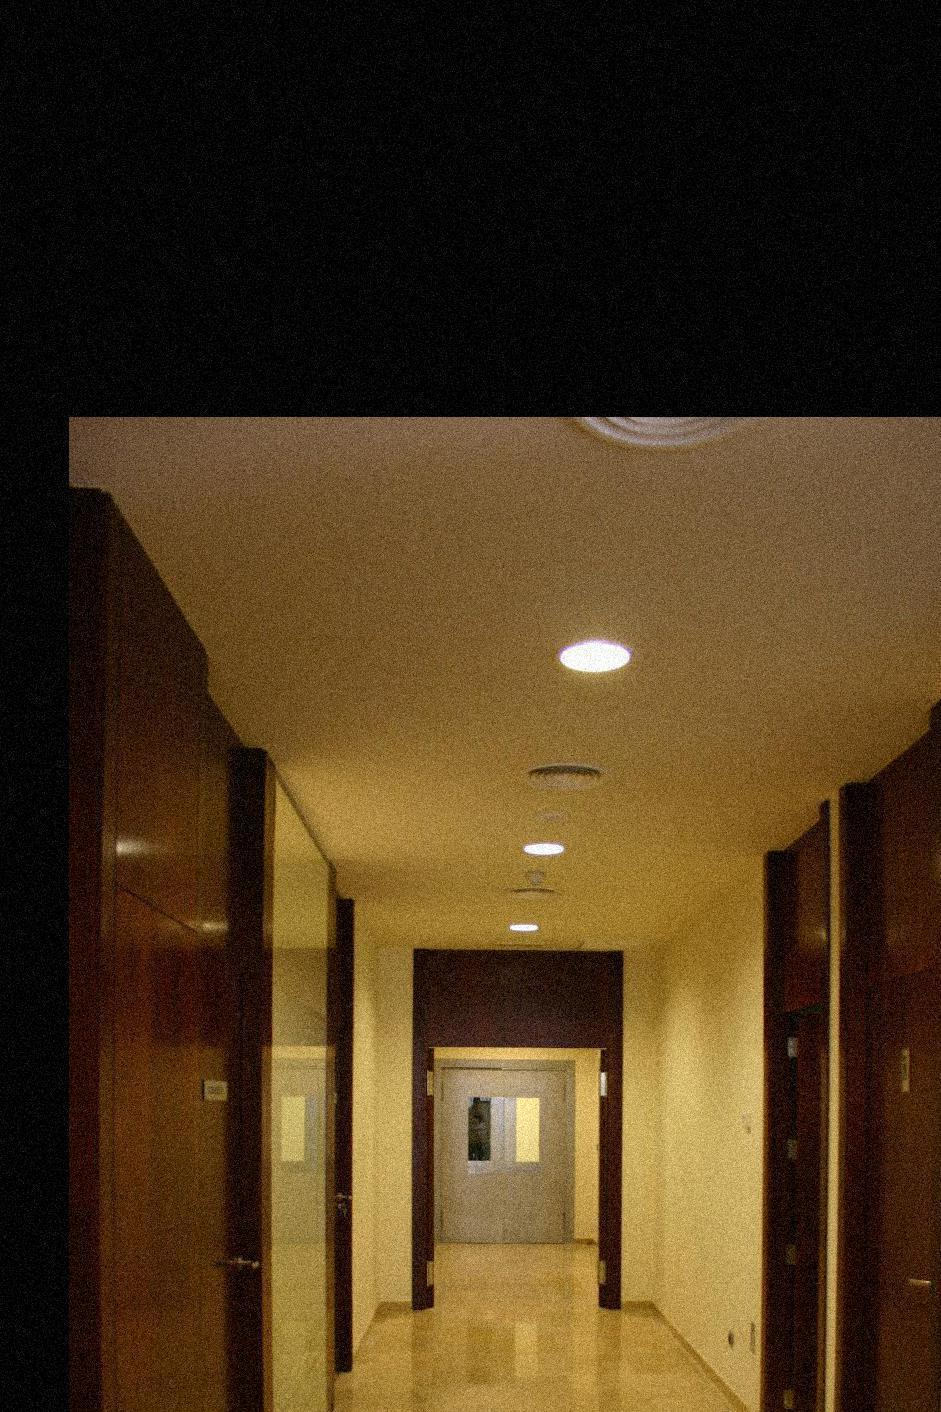Puerta: (848, 795, 935, 1412), (216, 987, 264, 1412), (772, 1019, 822, 1412)
